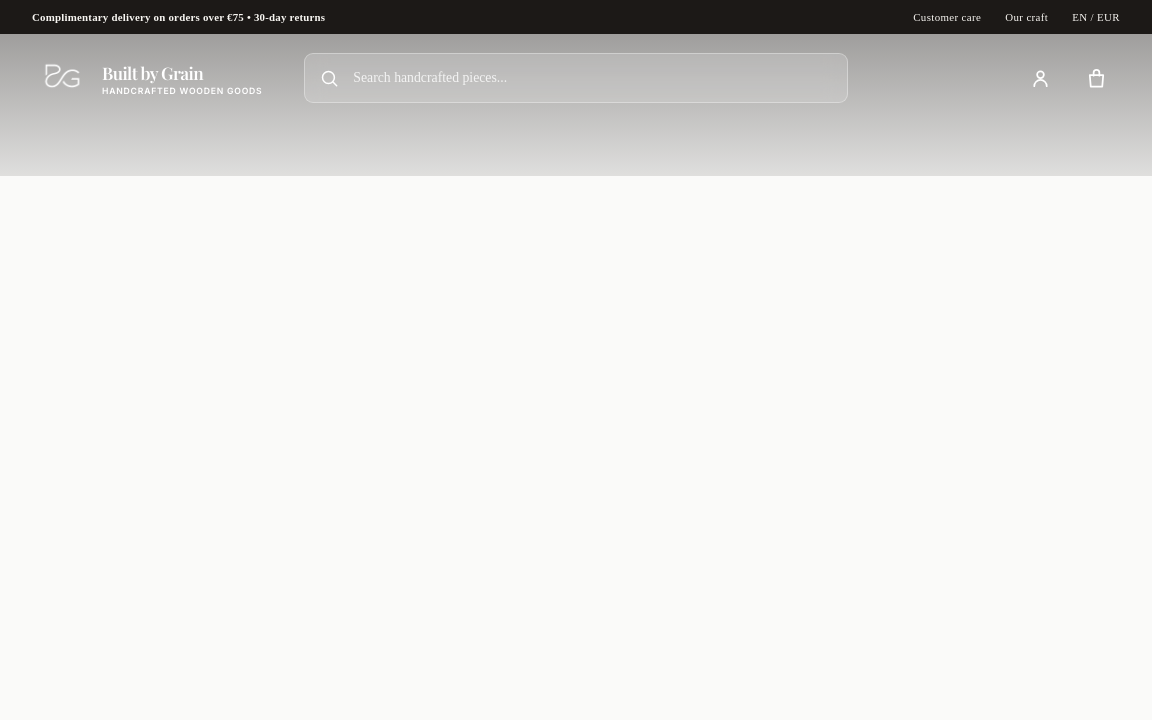
it: ShopNavigationComponent › shows a simple honest empty-bag message at the top of the desktop drawer
Click the button with class "bag-button": (1096, 78) [1072,54,1120,102]
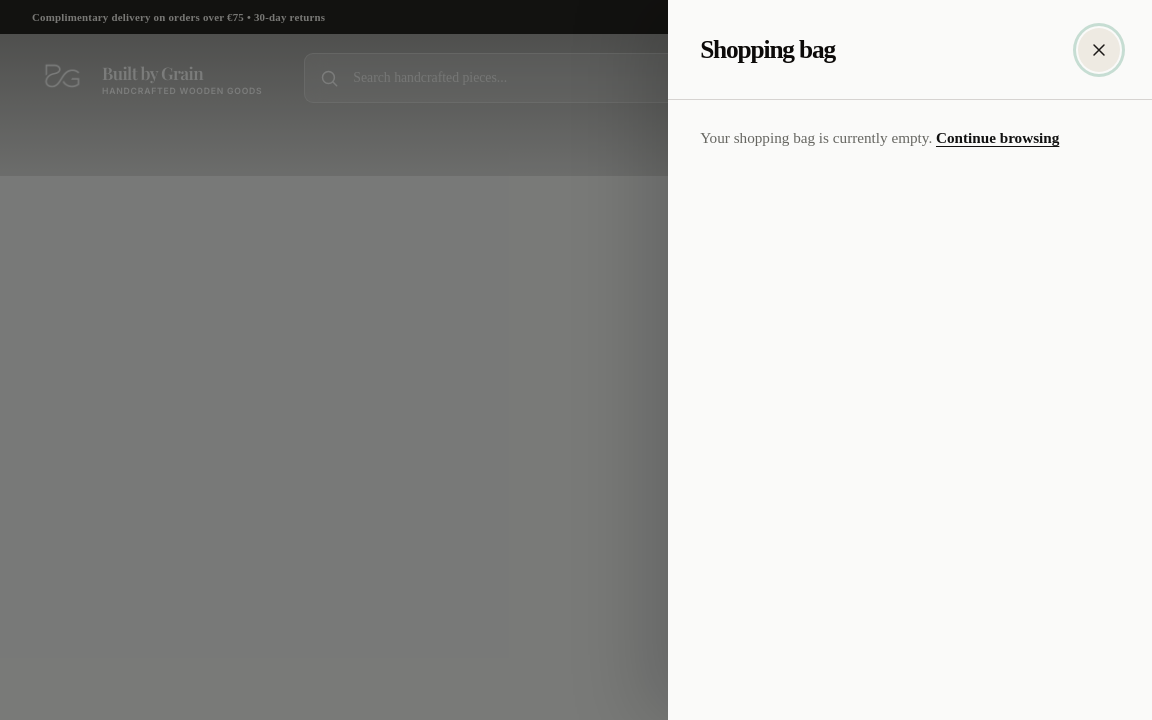
Expected: the element showing "Your shopping bag is currently empty. Continue browsing" is shown, [700,126,1120,150]
Expected: the link "Continue browsing" is shown, [936,129,1059,146]
